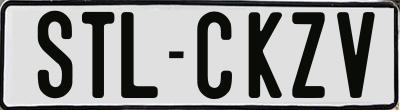C: (197, 10, 237, 103)
K: (247, 11, 285, 103)
L: (121, 10, 158, 96)
S: (38, 9, 77, 98)
T: (81, 10, 114, 99)
V: (336, 11, 376, 99)
Z: (291, 12, 327, 103)
